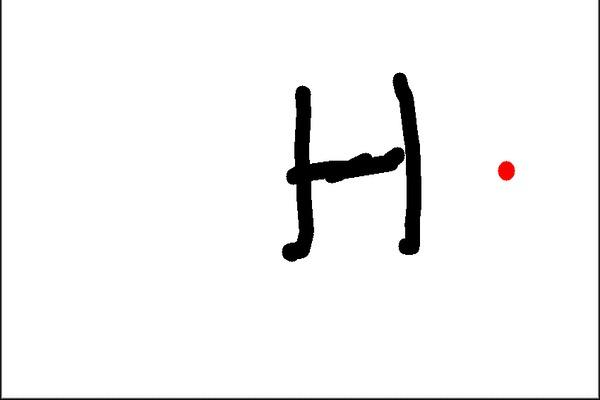H: (276, 69, 434, 274)
